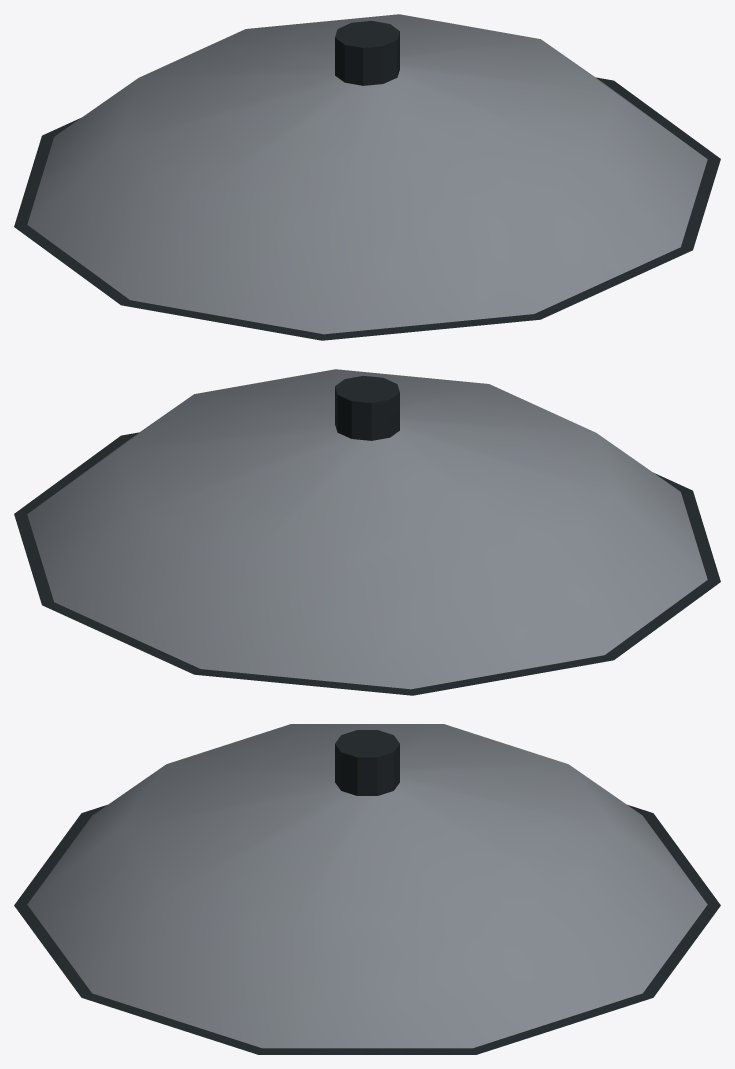
Rendered from Fry_Pan_Cover.fbx.
3 renders of one model, top to bottom at view 1: azimuth 30°, elevation 25°; view 2: azimuth 150°, elevation 25°; view 3: azimuth 270°, elevation 25°, orthographic. The views are drawn at different scales.
Parts seen in each view (by area): view 1: Fry_Pan_Cover; view 2: Fry_Pan_Cover; view 3: Fry_Pan_Cover.
Part boxes in pixels (left/top/right/bottom): Fry_Pan_Cover: left=14, top=14, right=720, bottom=340; Fry_Pan_Cover: left=14, top=369, right=720, bottom=695; Fry_Pan_Cover: left=14, top=724, right=720, bottom=1054.
Bounding box in the file's own units: 0.4101 × 0.1036 × 0.4101.
